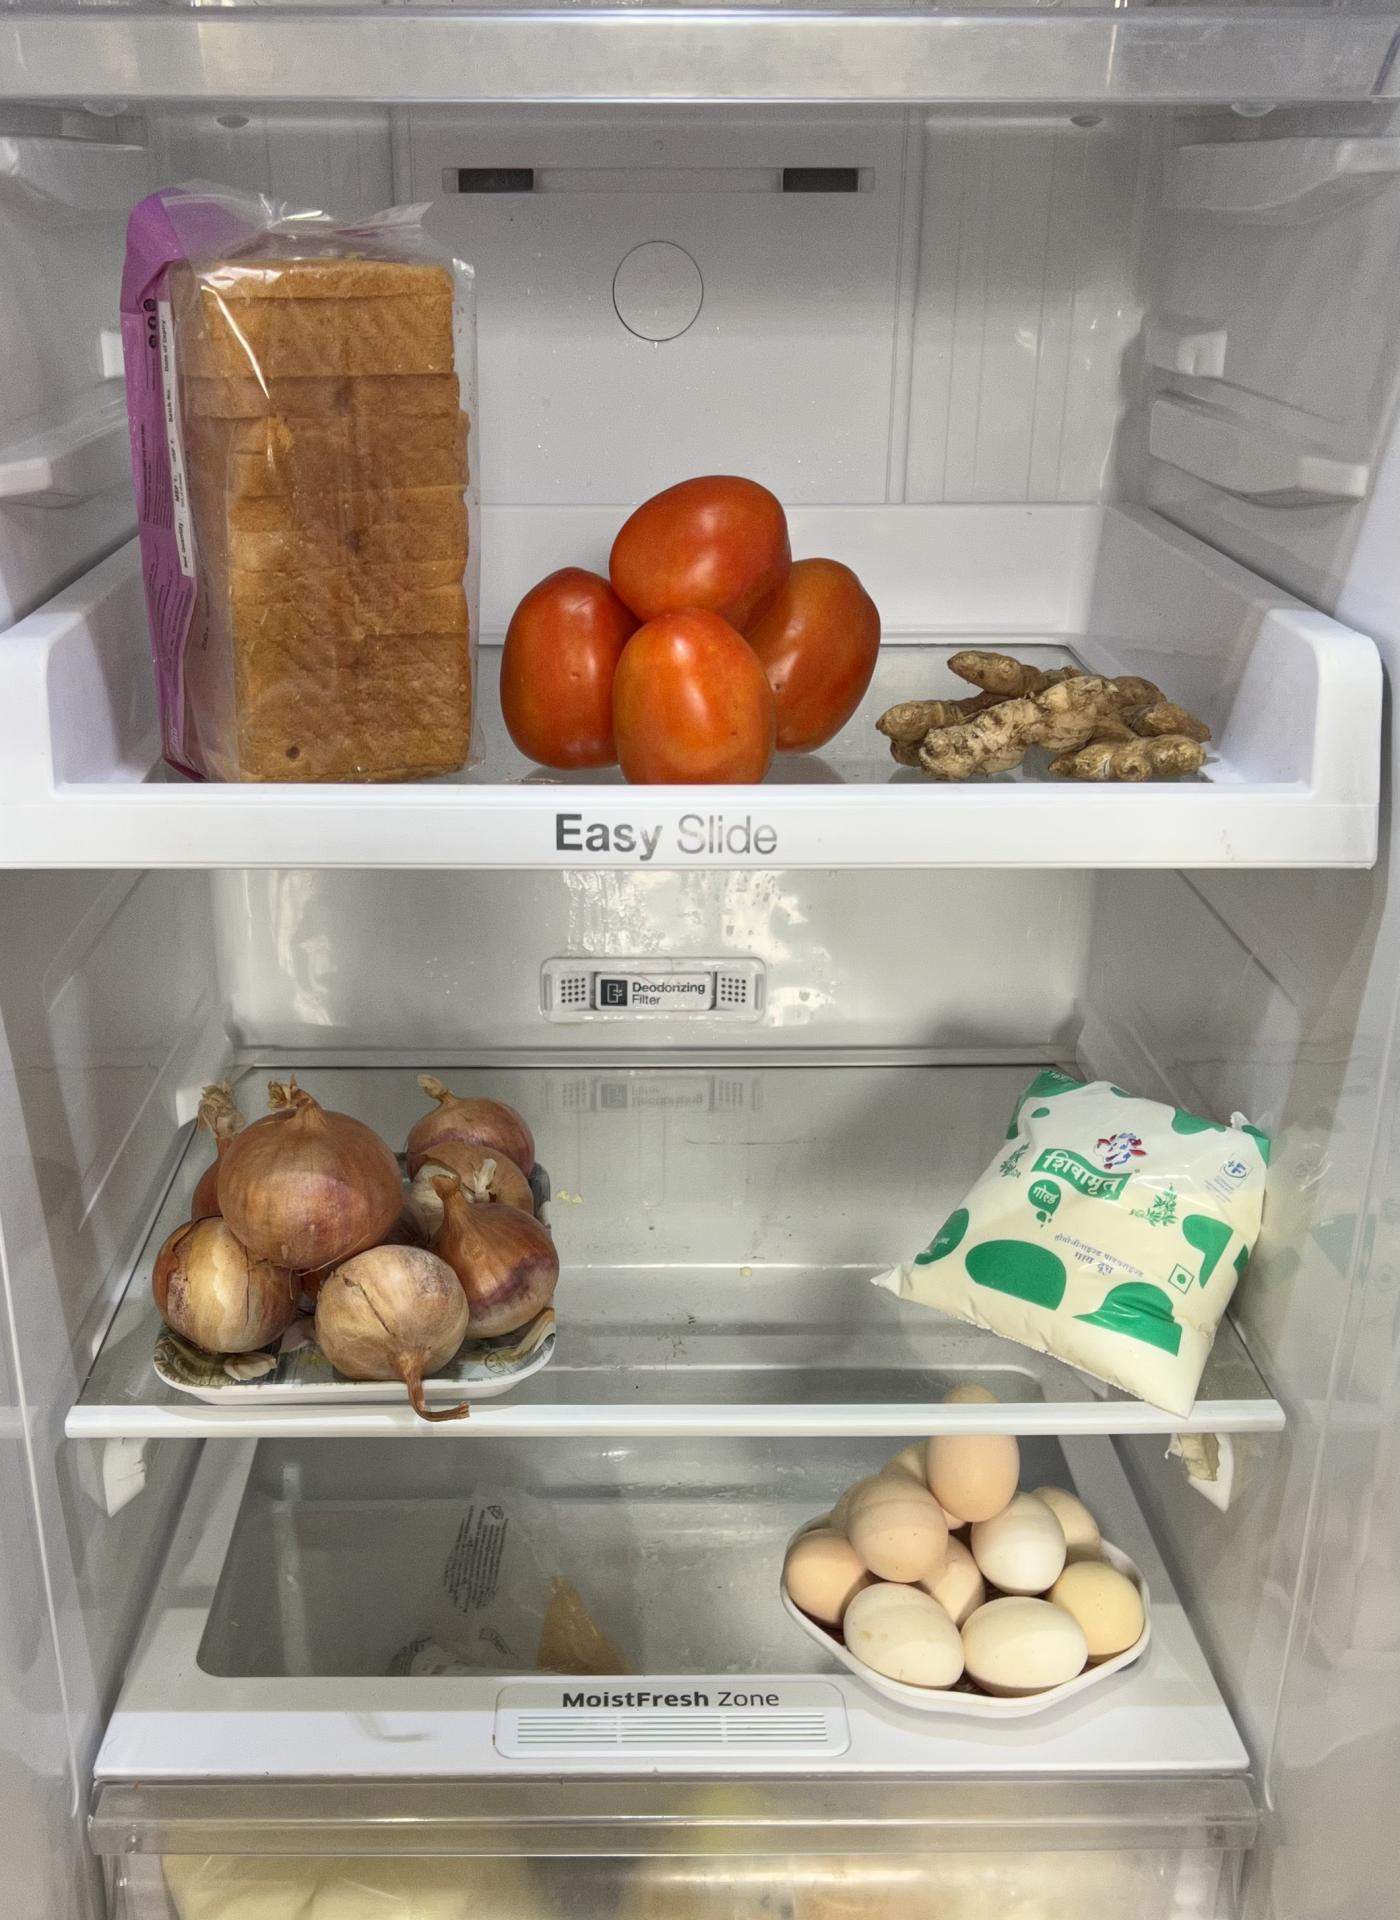bread: (100, 165, 483, 778)
egg: (772, 1439, 1158, 1689)
ginger: (884, 635, 1203, 784)
milk: (863, 1064, 1287, 1398)
onion: (164, 1072, 558, 1383)
tomato: (505, 473, 877, 784)
